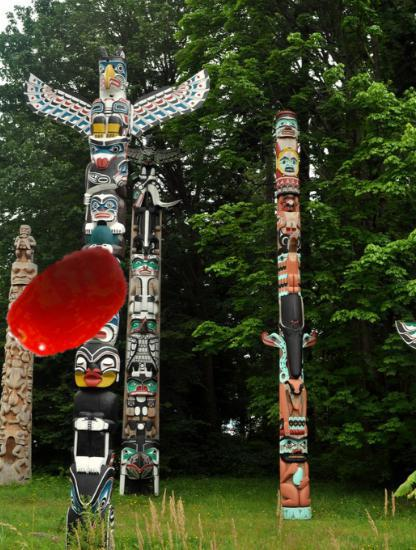Tomato: (2, 237, 135, 370)
